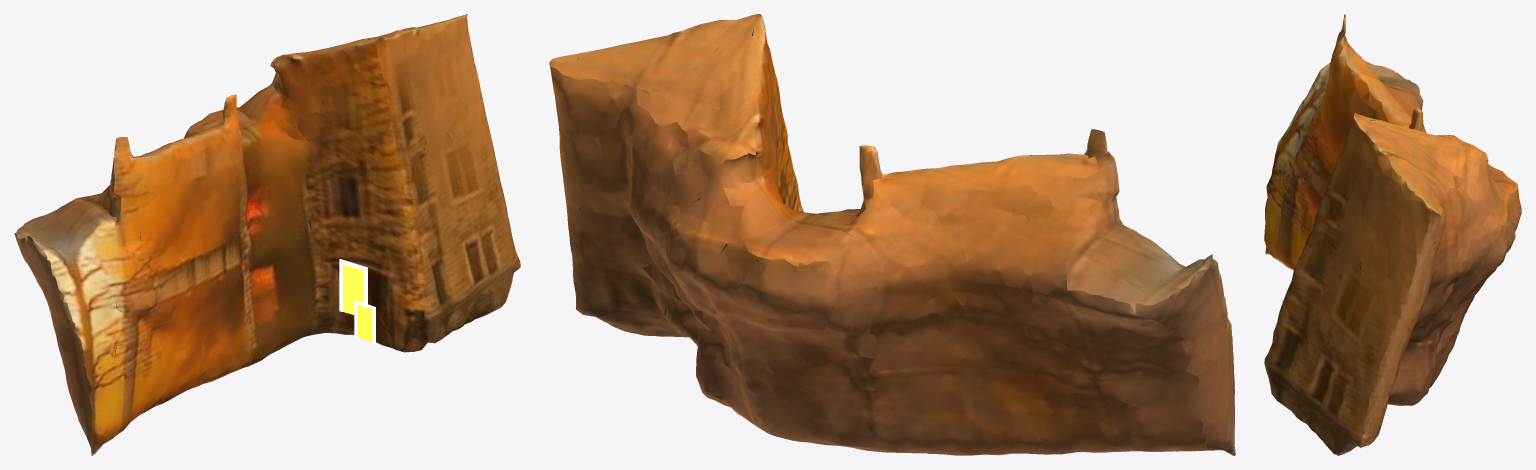
The model's file is burruss_scorched.glb.
The picture shows the model from 3 angles, left to right: view 1: azimuth 30°, elevation 25°; view 2: azimuth 150°, elevation 25°; view 3: azimuth 270°, elevation 25°; orthographic projection. The views are drawn at different scales.
Visible parts, largest first — view 1: geometry_0, entrance_1_glow, entrance_0_glow, entrance_1_frame; view 2: geometry_0; view 3: geometry_0.
Boxes of the visible parts, x1,y1,x2,y2 form: geometry_0: (14,14,520,455); entrance_1_glow: (343,264,363,314); entrance_0_glow: (357,304,372,342); entrance_1_frame: (339,259,367,311); geometry_0: (549,14,1235,455); geometry_0: (1264,14,1521,455).
Size of the model in its own units: 102 by 60.35 by 45.79.
3 materials, 1 textured.
